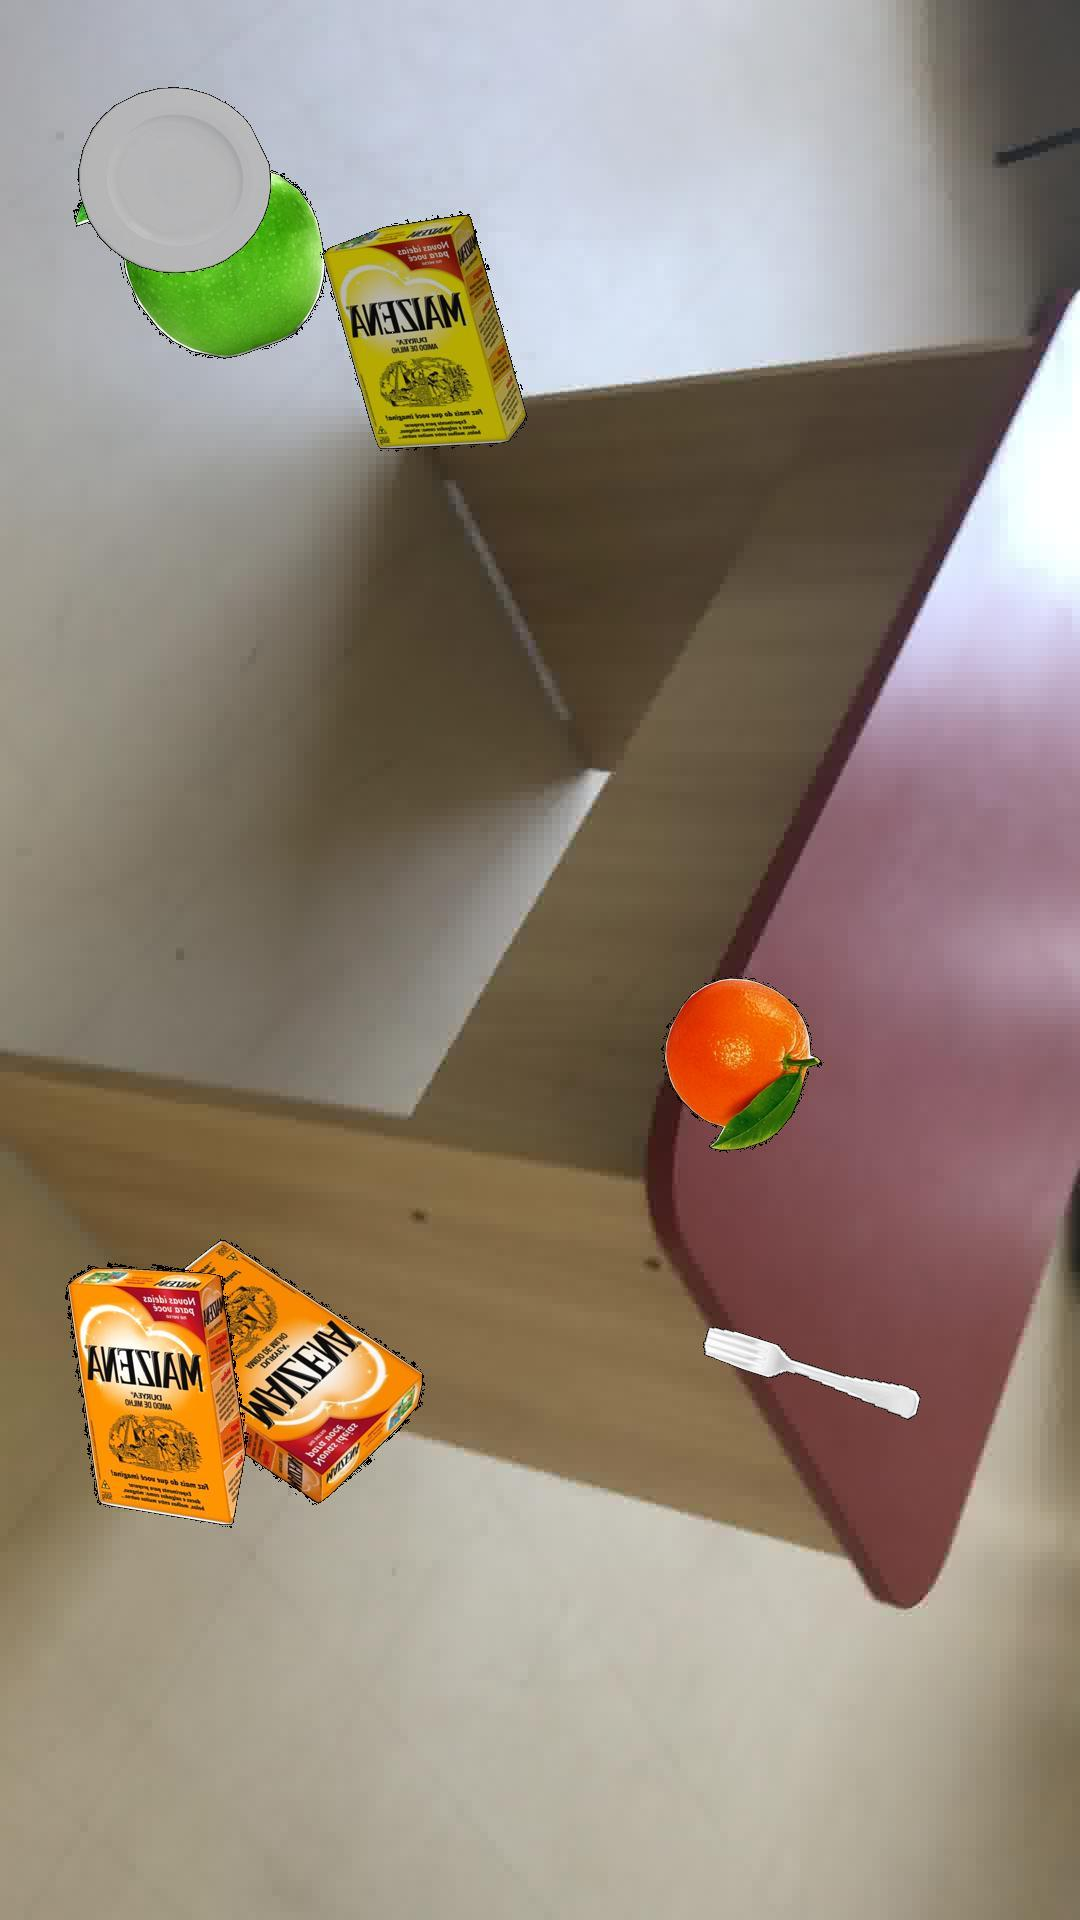fork: (702, 1325, 919, 1419)
orange: (662, 976, 820, 1150)
plate: (75, 87, 269, 272)
